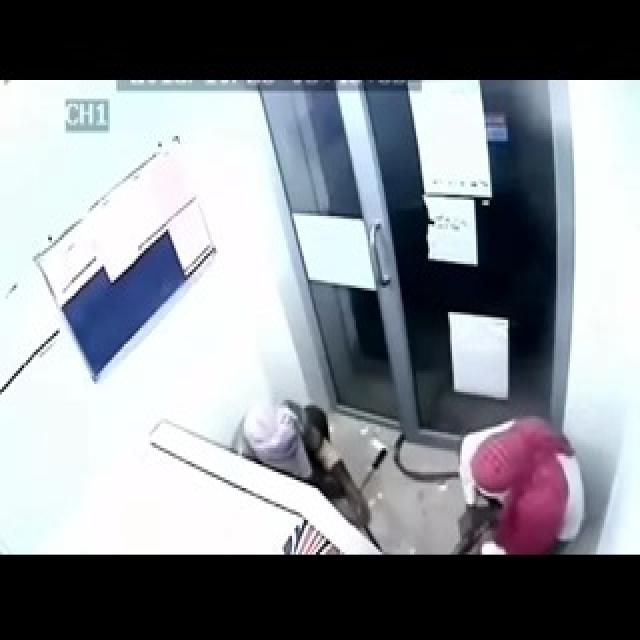thief: (432, 392, 593, 554), (232, 398, 378, 518)
